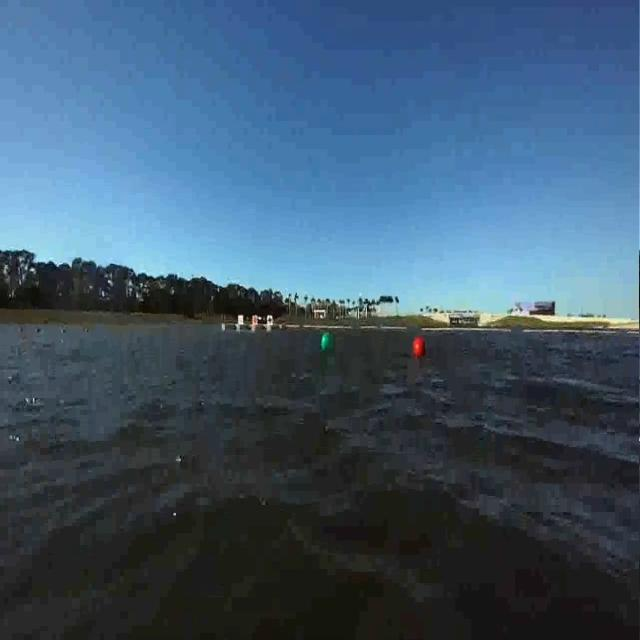green-buoy: (320, 335, 333, 349)
red-buoy: (414, 337, 427, 360)
